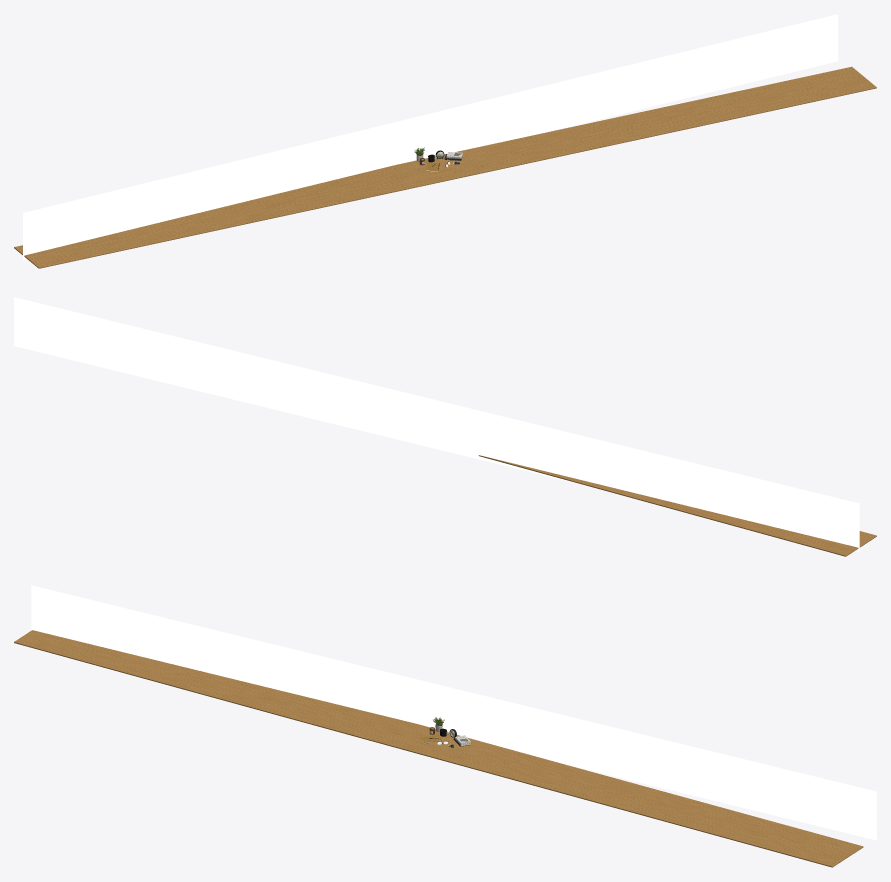
File: codex.glb
The picture shows the model from 3 angles, top to bottom: view 1: azimuth 30°, elevation 25°; view 2: azimuth 150°, elevation 25°; view 3: azimuth 330°, elevation 25°; orthographic projection. The views are drawn at different scales.
Visible parts, largest first — view 1: White wall, Solid oak table surface; view 2: White wall, Solid oak table surface; view 3: White wall, Solid oak table surface.
Part boxes in pixels (x1,y1,x2,y2): White wall: (23, 14, 837, 259); Solid oak table surface: (14, 66, 876, 268); White wall: (14, 297, 859, 551); Solid oak table surface: (478, 455, 876, 556); White wall: (31, 585, 876, 840); Solid oak table surface: (14, 630, 863, 867).
Bounding box in the file's own units: 200 × 11 × 22.17.
56 materials, 9 textured.
